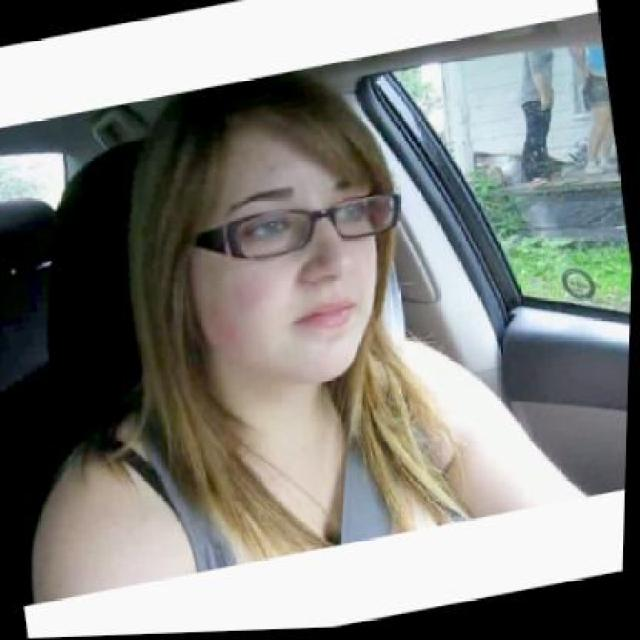attentif: (153, 55, 429, 408)
